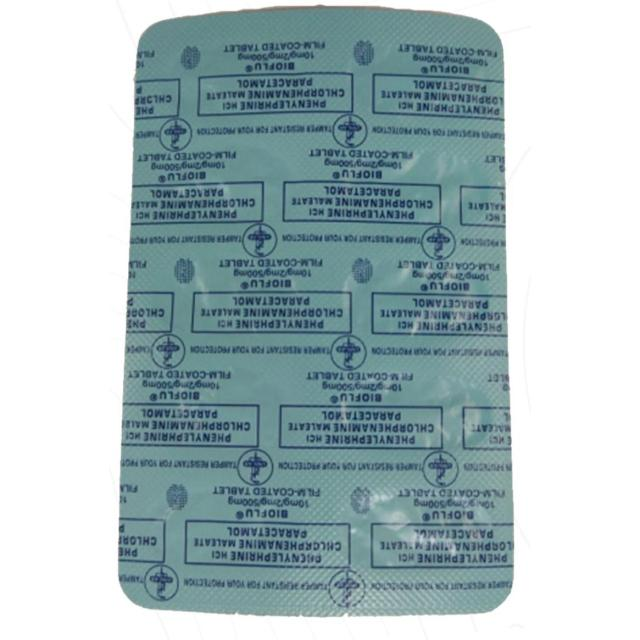blister: (112, 2, 524, 626)
